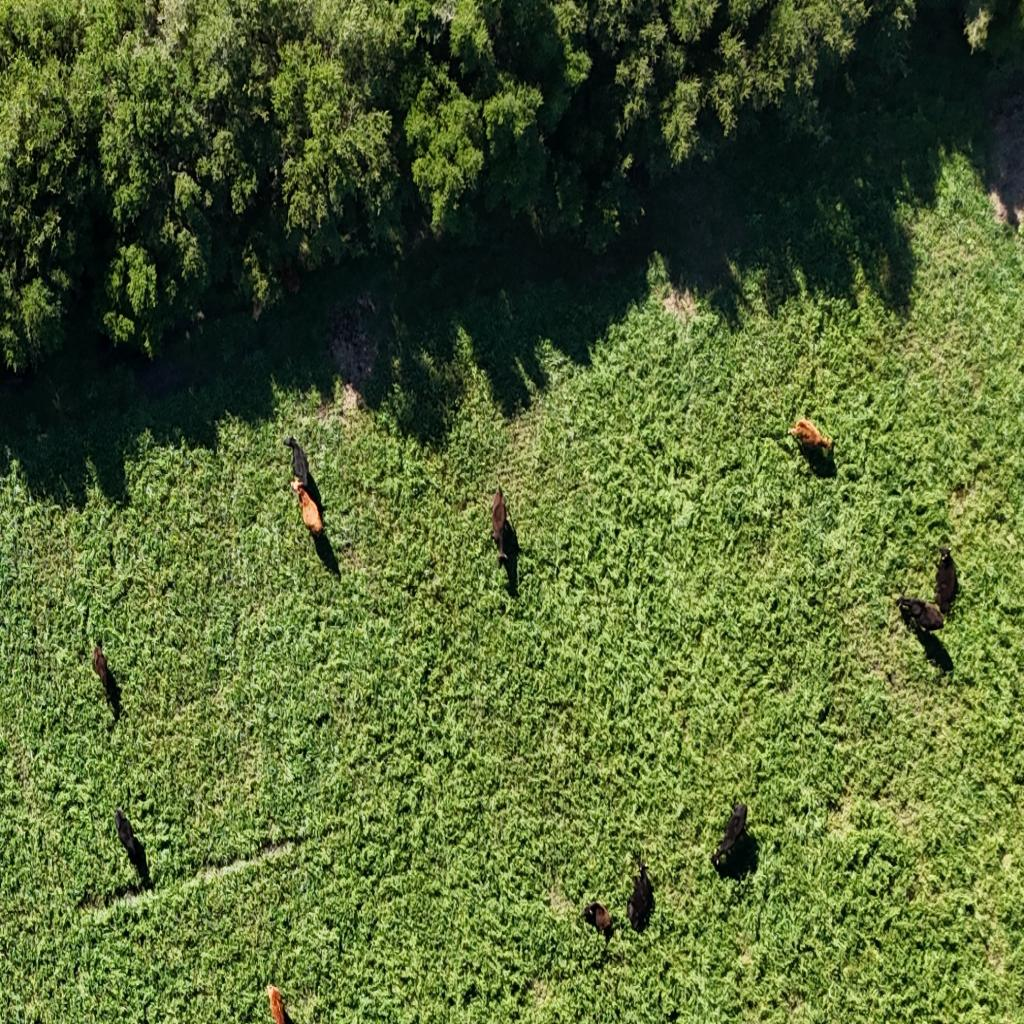cow: (888, 594, 962, 686), (786, 404, 846, 472), (711, 792, 754, 880), (280, 478, 330, 552)
